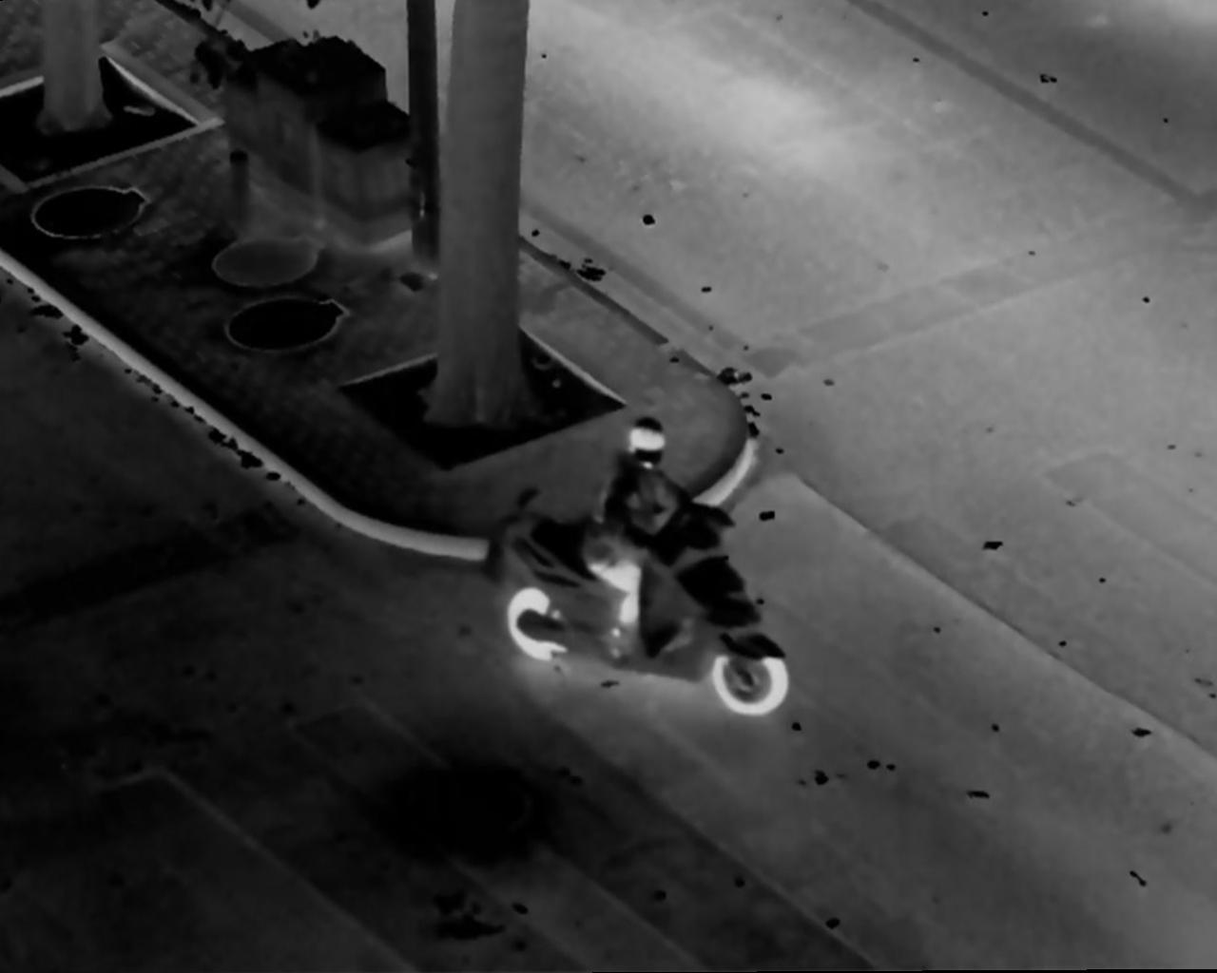person: (586, 411, 706, 658)
